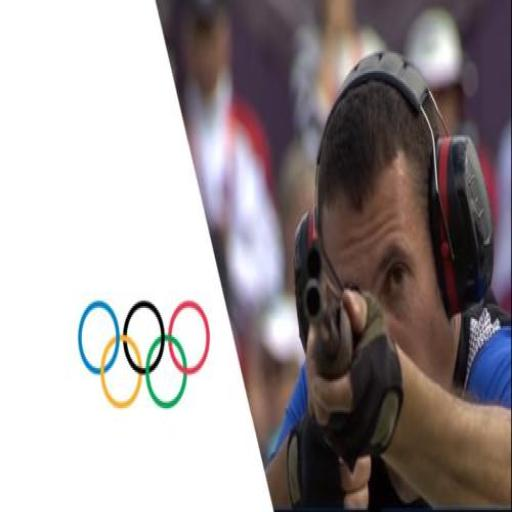shooting: (264, 48, 511, 510)
